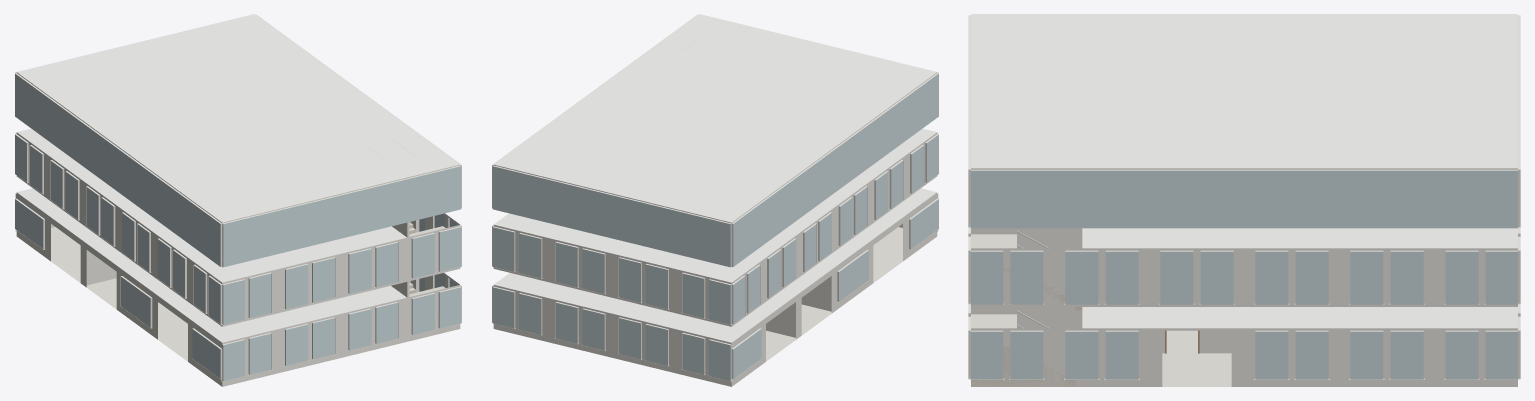
Rendered from Shopping_Medical_2_Interior.fbx.
3 renders of one model, left to right at view 1: azimuth 30°, elevation 25°; view 2: azimuth 150°, elevation 25°; view 3: azimuth 270°, elevation 25°, orthographic. The views are drawn at different scales.
Visible parts, largest first — view 1: Shopping_Medical_2_Interior; view 2: Shopping_Medical_2_Interior; view 3: Shopping_Medical_2_Interior.
Boxes of the visible parts, x1,y1,x2,y2 form: Shopping_Medical_2_Interior: (15, 14, 461, 386); Shopping_Medical_2_Interior: (492, 14, 938, 386); Shopping_Medical_2_Interior: (968, 14, 1520, 386).
Bounding box in the file's own units: 14.3 × 9.3 × 21.3.
